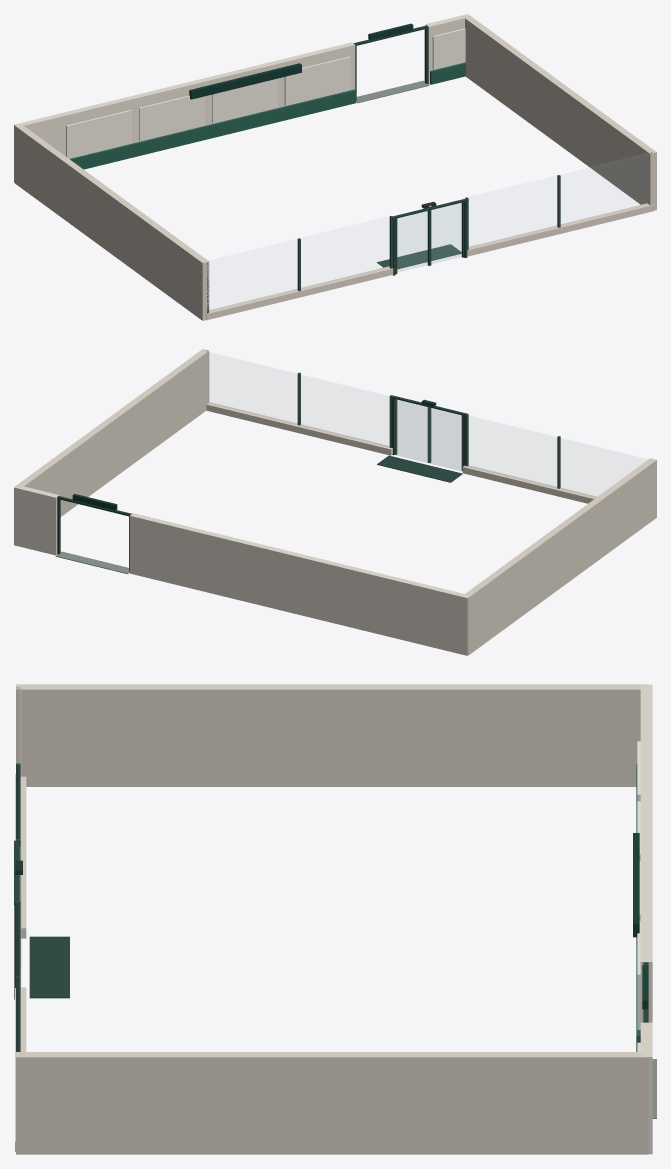
Rendered from building.glb.
The picture shows the model from 3 angles, top to bottom: view 1: azimuth 30°, elevation 25°; view 2: azimuth 150°, elevation 25°; view 3: azimuth 270°, elevation 25°; orthographic projection. The views are drawn at different scales.
Parts seen in each view (by area): view 1: n39, n37, n35, n36, n40, n19, n24, n5, n41, n16, n11; view 2: n35, n39, n40, n24, n19, n16, n41, n11; view 3: n39, n35, n16, n40, n41, n37, n5.
Part boxes in pixels (bbox=[...]): n39: bbox=[15, 15, 656, 320]; n37: bbox=[66, 28, 465, 158]; n35: bbox=[14, 14, 470, 182]; n36: bbox=[70, 62, 465, 169]; n40: bbox=[206, 203, 653, 320]; n19: bbox=[397, 211, 427, 271]; n24: bbox=[431, 203, 461, 263]; n5: bbox=[189, 63, 301, 99]; n41: bbox=[207, 152, 651, 313]; n16: bbox=[377, 244, 461, 269]; n11: bbox=[356, 80, 429, 103]; n35: bbox=[14, 486, 470, 655]; n39: bbox=[15, 349, 656, 654]; n40: bbox=[206, 402, 597, 503]; n24: bbox=[395, 399, 428, 462]; n19: bbox=[429, 407, 461, 470]; n16: bbox=[377, 455, 462, 482]; n41: bbox=[206, 350, 560, 488]; n11: bbox=[55, 551, 129, 573]; n39: bbox=[16, 684, 648, 1154]; n35: bbox=[640, 684, 652, 1154]; n16: bbox=[29, 936, 69, 998]; n40: bbox=[15, 774, 26, 1151]; n41: bbox=[16, 687, 20, 1051]; n37: bbox=[637, 741, 640, 1051]; n5: bbox=[633, 833, 639, 937].
Size of the model in its own units: 46.08 by 6.21 by 33.55.
